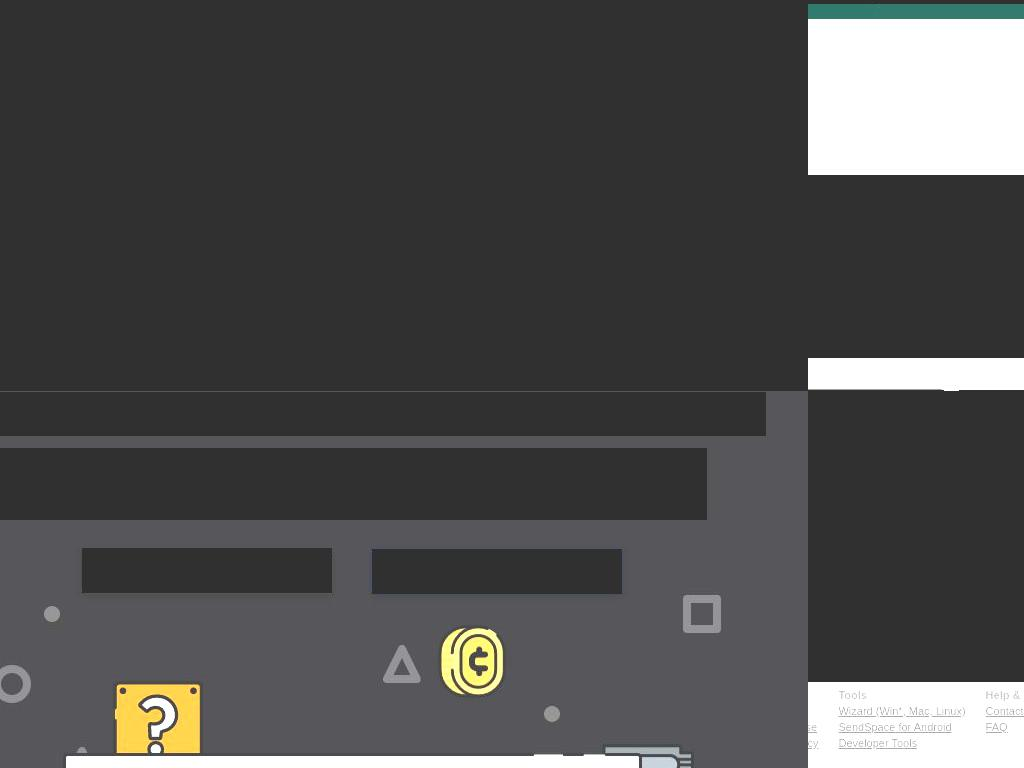button: (372, 549, 622, 594), (823, 425, 1024, 469), (698, 25, 808, 74), (462, 369, 648, 391)
heading: (0, 156, 385, 372), (808, 175, 1024, 358), (0, 392, 766, 436), (462, 190, 750, 257)
image: (0, 0, 808, 391), (66, 127, 426, 391), (808, 391, 1024, 682), (0, 685, 808, 723), (424, 318, 808, 391), (113, 681, 203, 768), (432, 620, 512, 701), (602, 743, 694, 768), (383, 645, 421, 683), (33, 595, 71, 633), (533, 695, 571, 733), (683, 595, 721, 633), (0, 665, 31, 703), (0, 25, 19, 74), (63, 747, 101, 768), (453, 755, 491, 768), (741, 144, 761, 165)
link: (838, 703, 967, 716), (838, 719, 953, 732), (838, 735, 918, 748), (985, 703, 1024, 716), (985, 719, 1008, 732)
text: (0, 448, 707, 520), (462, 276, 750, 340), (59, 38, 689, 59), (82, 548, 332, 593), (372, 549, 622, 594), (847, 432, 1024, 462), (838, 685, 966, 702), (852, 536, 964, 551), (854, 524, 962, 539), (985, 685, 1024, 702), (990, 489, 1024, 502)
